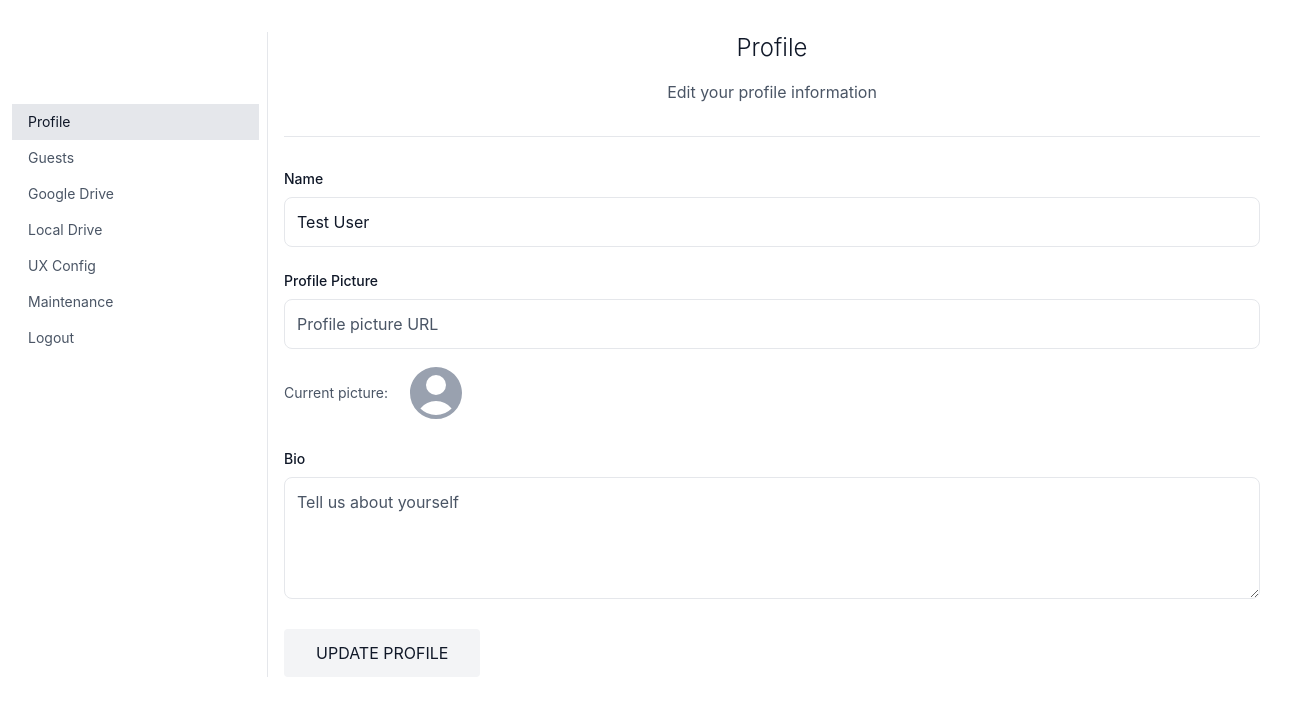
Test case: account page gating › renders the Guests section when selected
Click the button "Guests": (136, 158) x1=12 y1=140 x2=259 y2=176
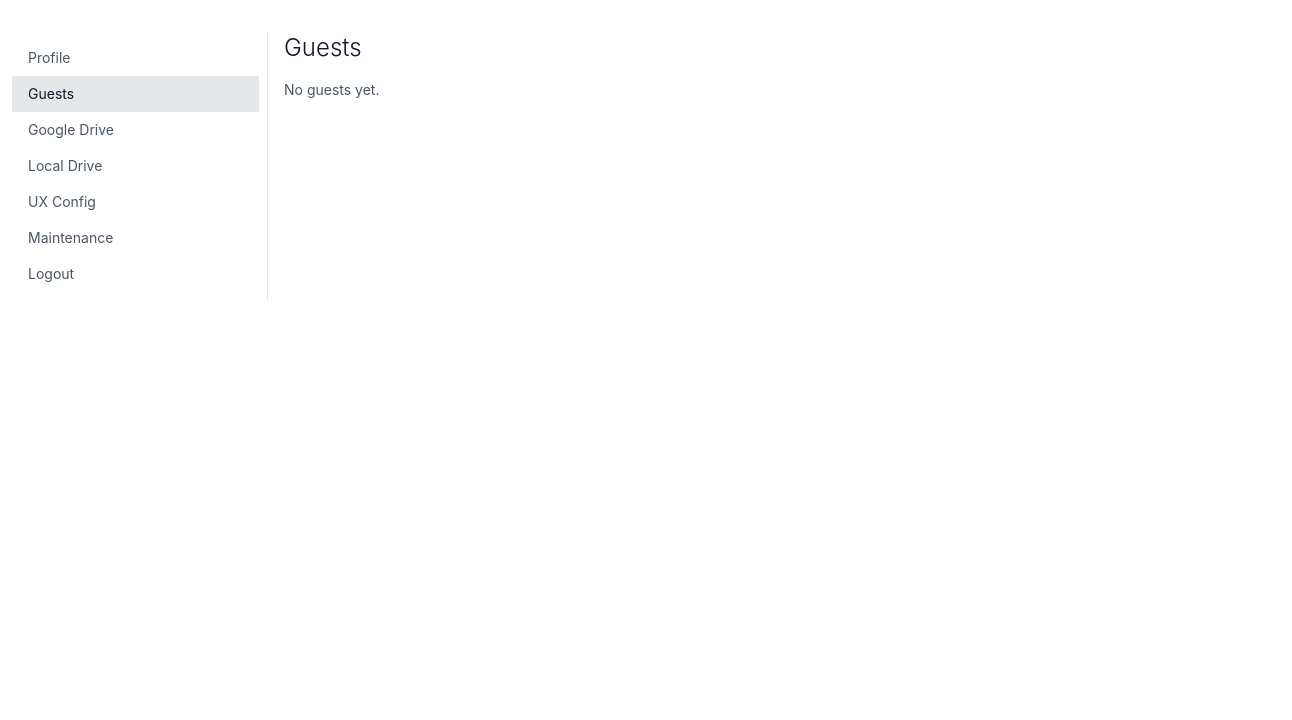
expect the text "No guests yet." is shown: met, box x1=284 y1=81 x2=379 y2=98
